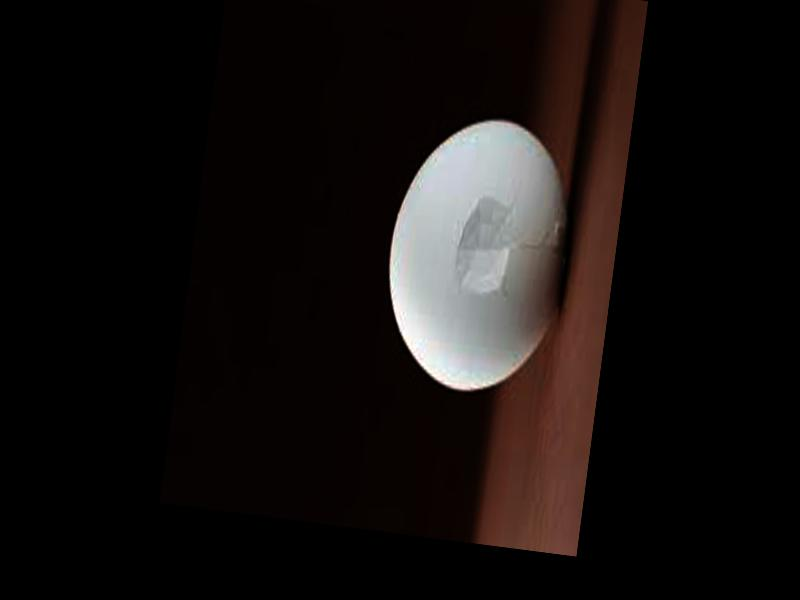Eggs: (373, 111, 583, 401)
